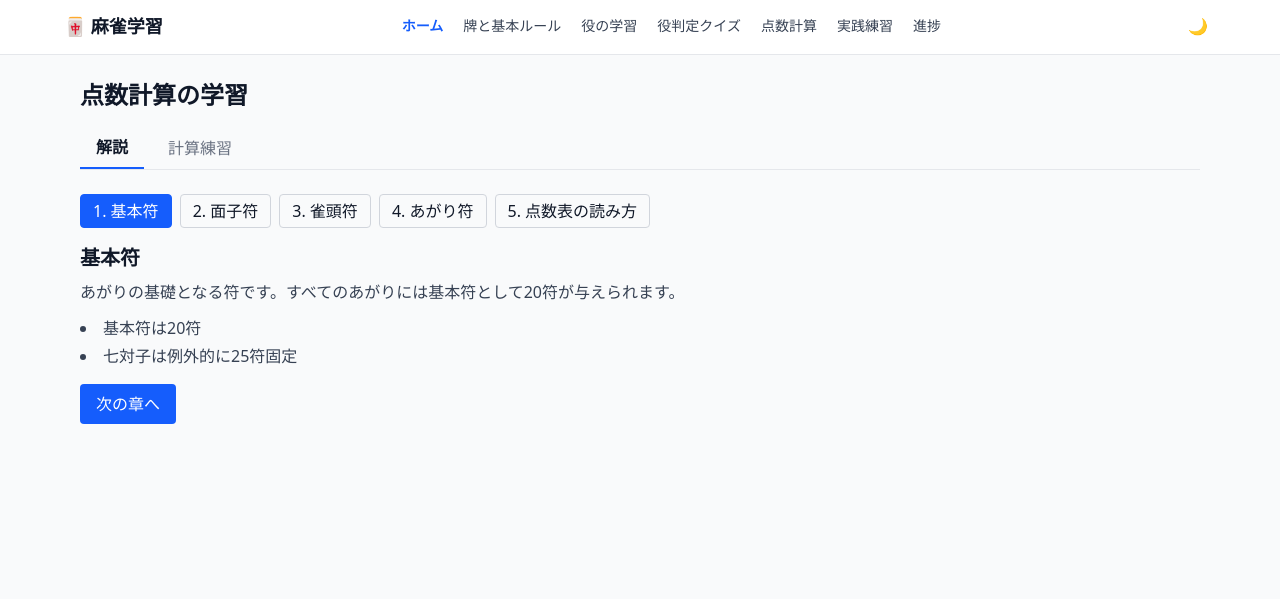
Test: ScorePage 必須コンテンツ › 計算練習タブに切り替えると計算ボタンが表示される（要件4.3）
Step 1. Click the button "計算練習" → (200, 148), box [152,127,248,169]
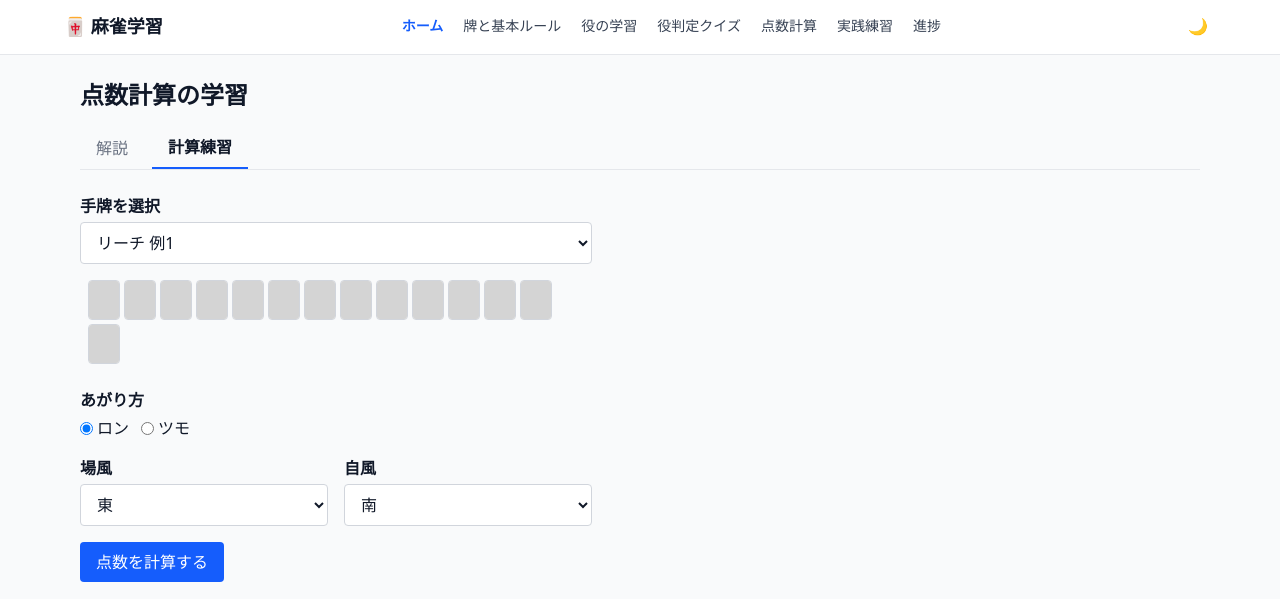
Now the button "点数を計算する" is shown, box [80,542,224,582]
